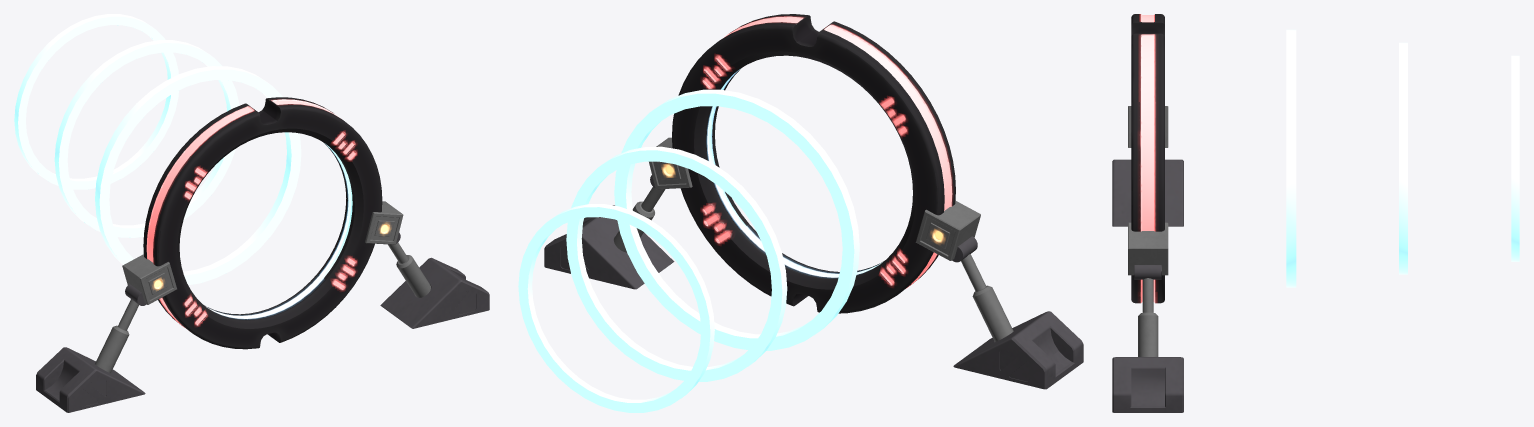
File: 3d_teleportation_portal.glb
3 renders of one model, left to right at view 1: azimuth 30°, elevation 25°; view 2: azimuth 150°, elevation 25°; view 3: azimuth 270°, elevation 25°, orthographic. The views are drawn at different scales.
Visible parts, largest first — view 1: low; view 2: low; view 3: low.
Part boxes in pixels (<box>): low: <box>14,14,489,412</box>; low: <box>518,14,1083,412</box>; low: <box>1112,14,1519,412</box>.
Bounding box in the file's own units: 14.61 × 8.08 × 11.01.
Materials: 1 (1 with a texture image).
